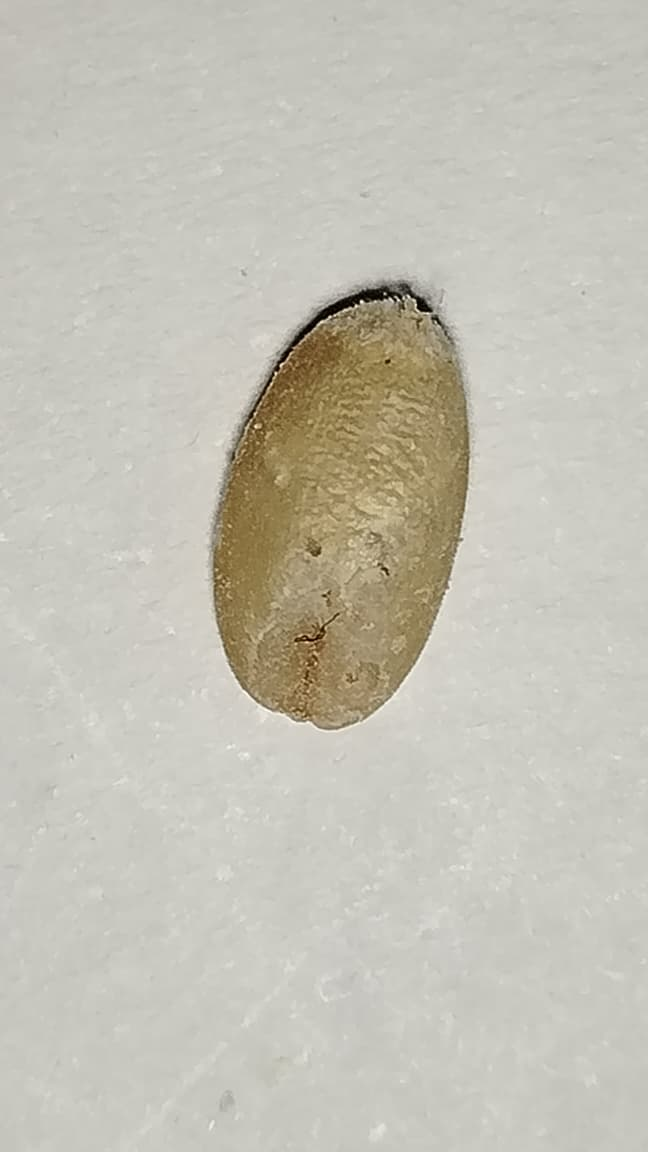damage: (212, 284, 467, 726)
insectdamage: (254, 529, 394, 730)
